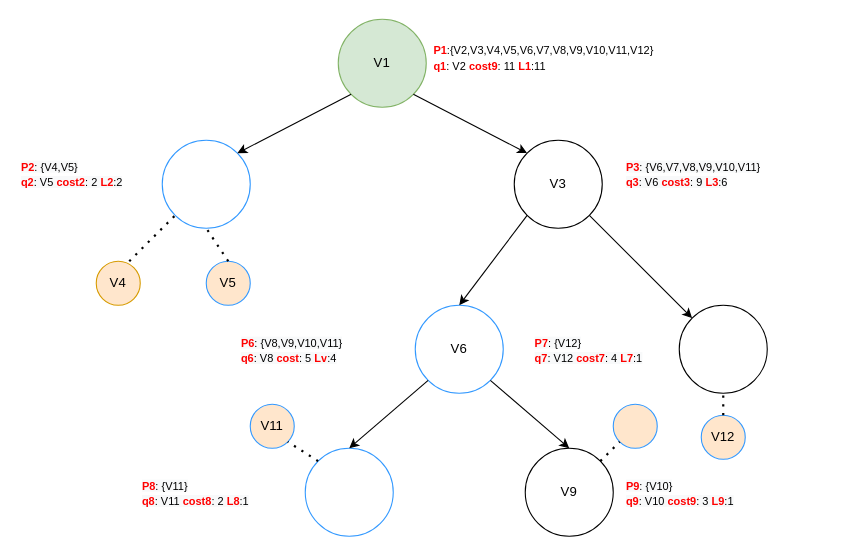
The diagram is 862 pixels wide and 556 high, and some of its shapes have lost their labels. Here are the shapes that lost their labels. From the top down, the box of each, then its label:
(161, 139, 250, 228): V2
(678, 304, 767, 393): V7
(612, 403, 657, 448): V10
(304, 447, 393, 536): V8
